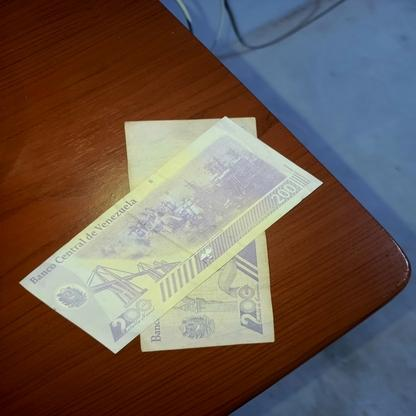vef_back: (18, 115, 323, 353), (124, 116, 274, 351)
